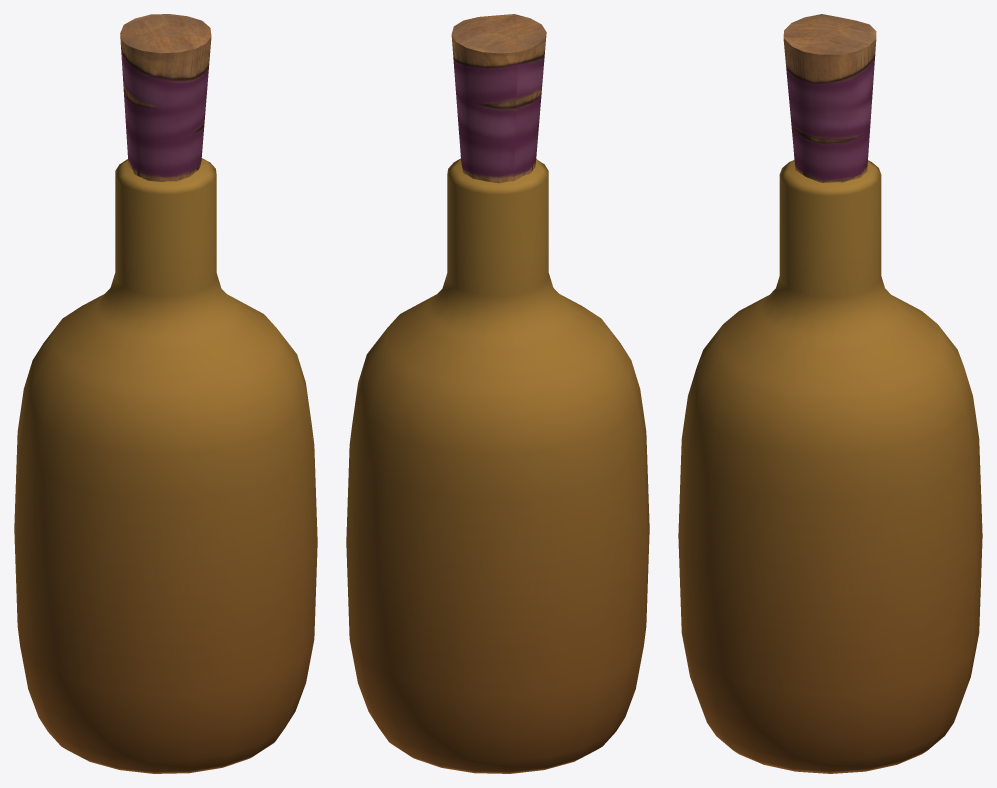
Rendered from SM_Potion_Props_Bottle_Medium_04_A.fbx.
3 renders of one model, left to right at view 1: azimuth 30°, elevation 25°; view 2: azimuth 150°, elevation 25°; view 3: azimuth 270°, elevation 25°, orthographic.
Visible parts, largest first — view 1: SM_Potion_Props_Bottle_Medium_04_A_LOD0; view 2: SM_Potion_Props_Bottle_Medium_04_A_LOD0; view 3: SM_Potion_Props_Bottle_Medium_04_A_LOD0.
Part boxes in pixels (x1,y1,x2,y2): SM_Potion_Props_Bottle_Medium_04_A_LOD0: (14, 14, 317, 773); SM_Potion_Props_Bottle_Medium_04_A_LOD0: (346, 14, 649, 773); SM_Potion_Props_Bottle_Medium_04_A_LOD0: (678, 14, 982, 773).
Size of what is drawn, in the model's own units: 14.31 by 36.09 by 14.31.
